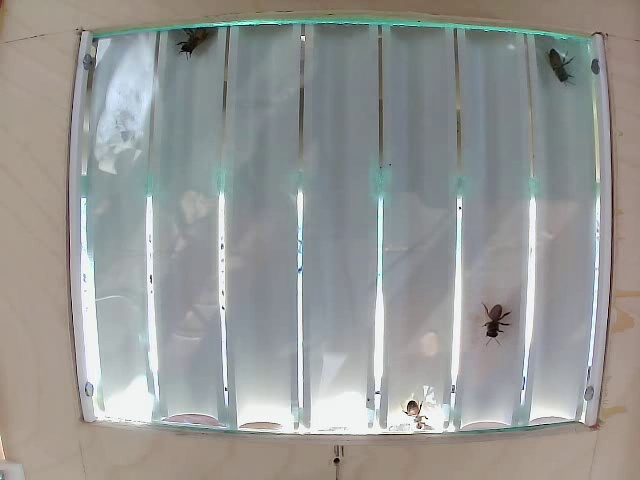bee: (528, 49, 573, 111), (400, 381, 436, 424), (485, 289, 508, 340)
